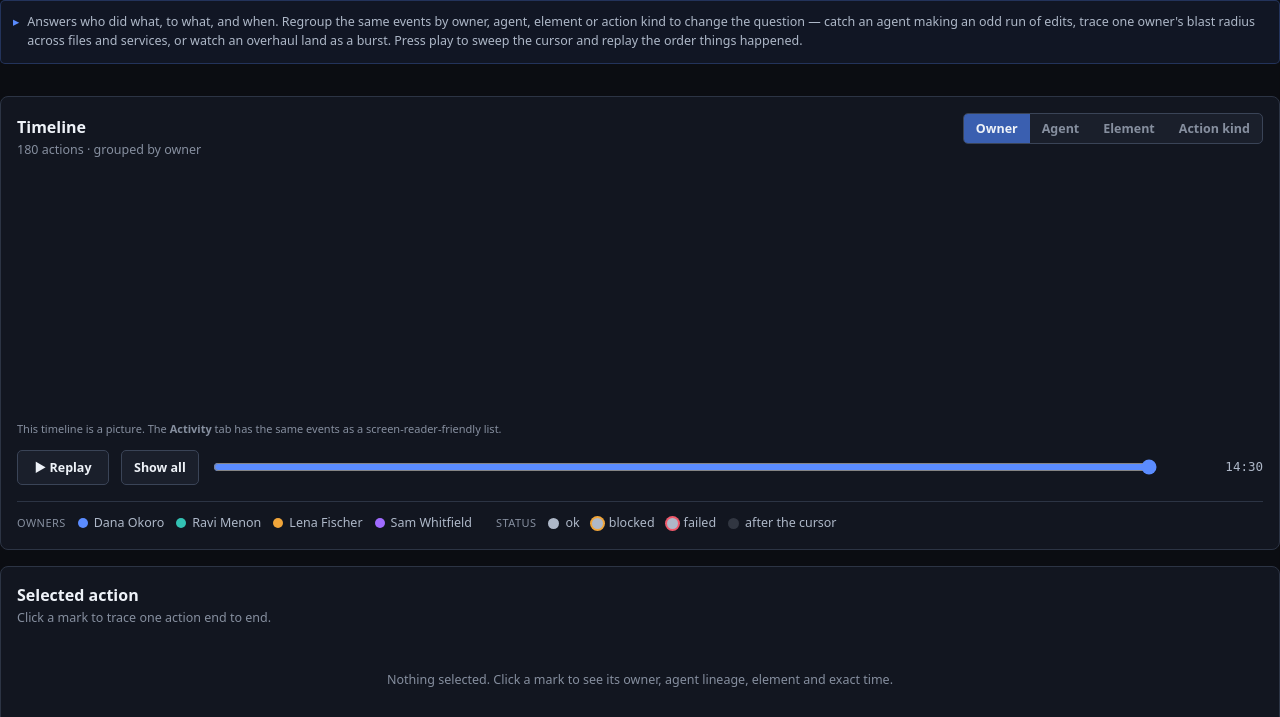
Test case: VisualiserTab — group-by control › re-labels the hint and swaps the legend for each grouping
What coordinates should you click on to do the following:
click the button "Agent"
I would click on:
 (1060, 128)
Its box is [1030,114,1091,142].
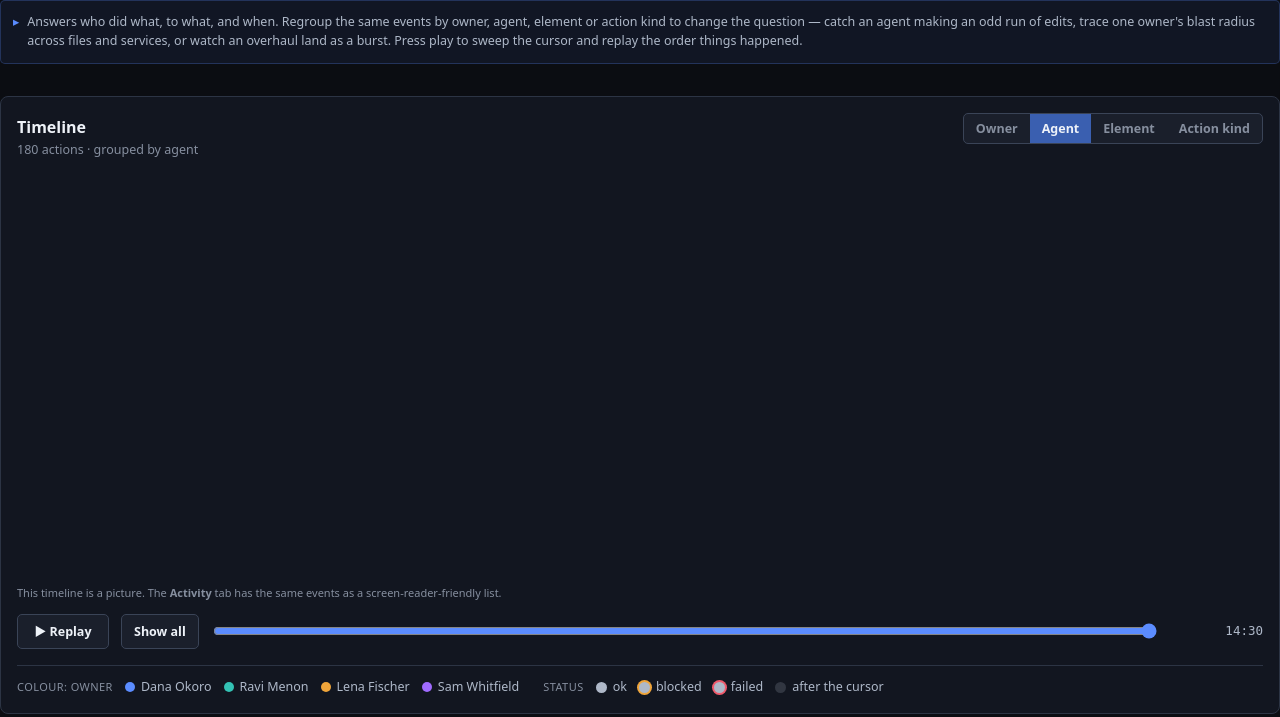
Now the text "Colour: owner" is shown, box [17,679,113,695]
What coordinates should you click on to do the following:
click the button "Element"
I would click on:
 (1129, 128)
Its box is [1091,114,1167,142].
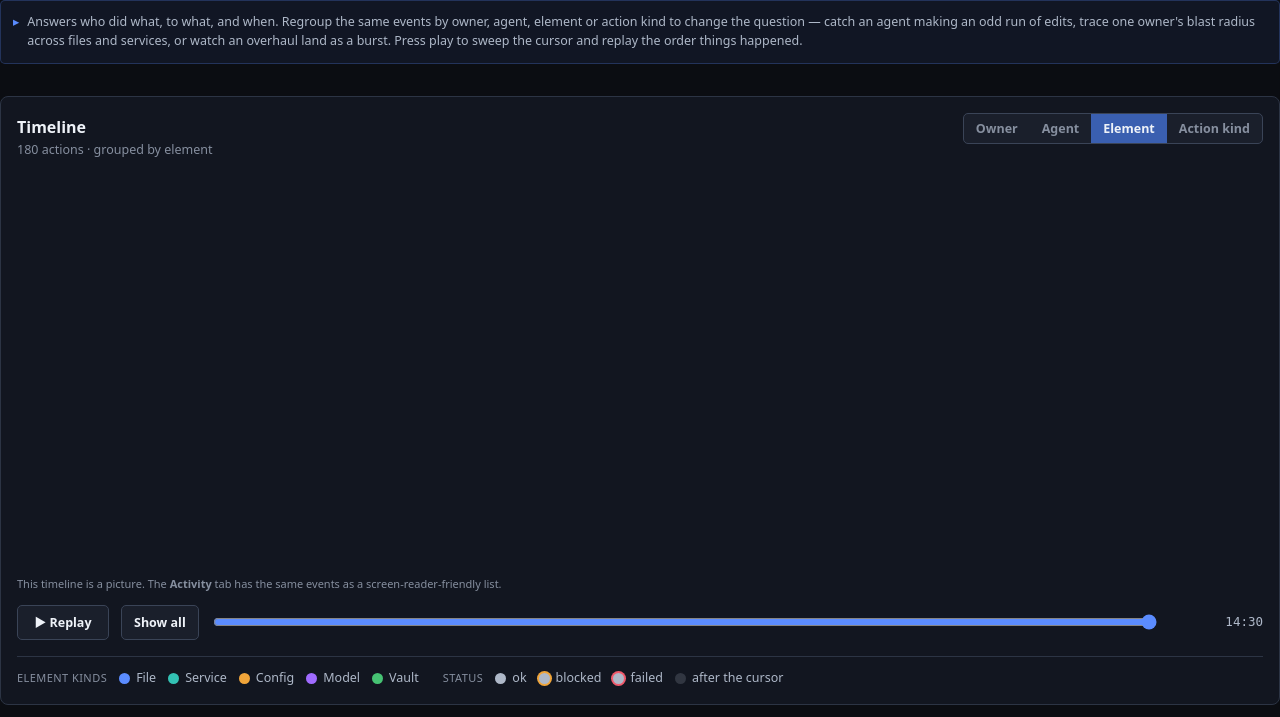
Now the text "Element kinds" is shown, box [17,670,107,686]
What coordinates should you click on to do the following:
click the button "Action kind"
I would click on:
 (1214, 128)
Its box is [1167,114,1262,142].
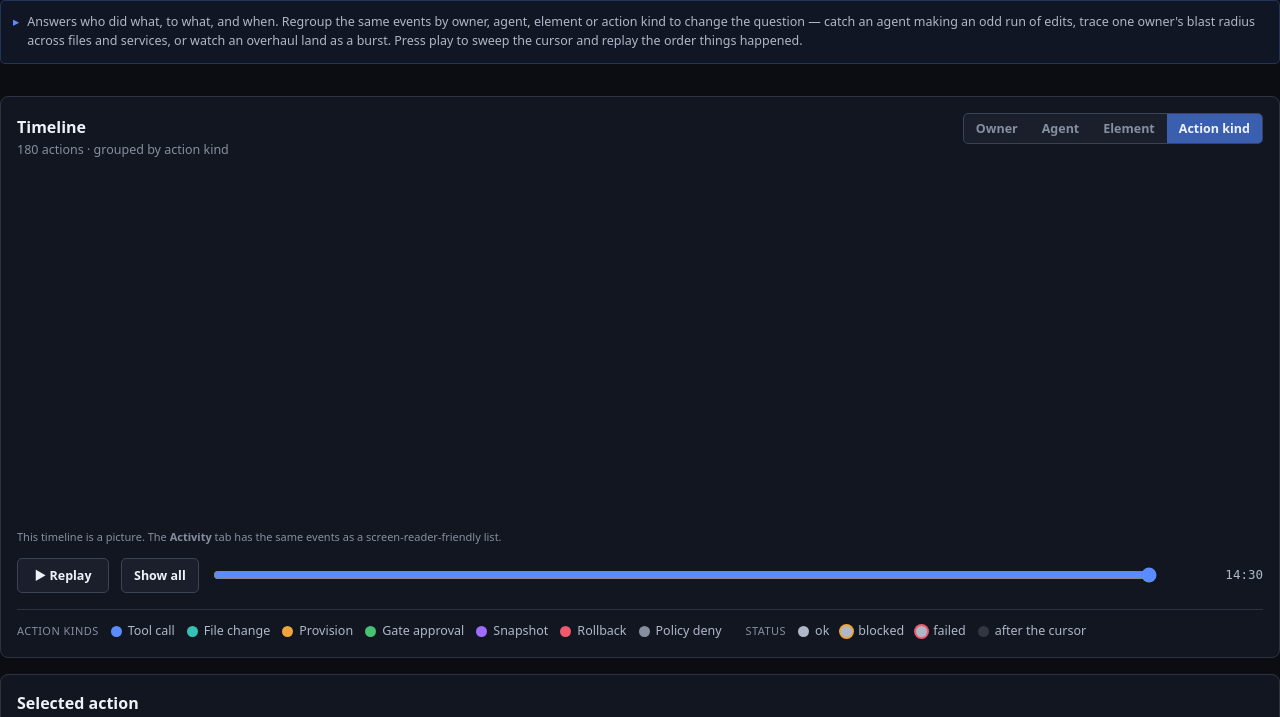
Now the text "Action kinds" is shown, box [17,623,99,639]
What coordinates should you click on to do the following:
click the button "Owner"
I would click on:
 (997, 128)
Its box is [964,114,1030,142].
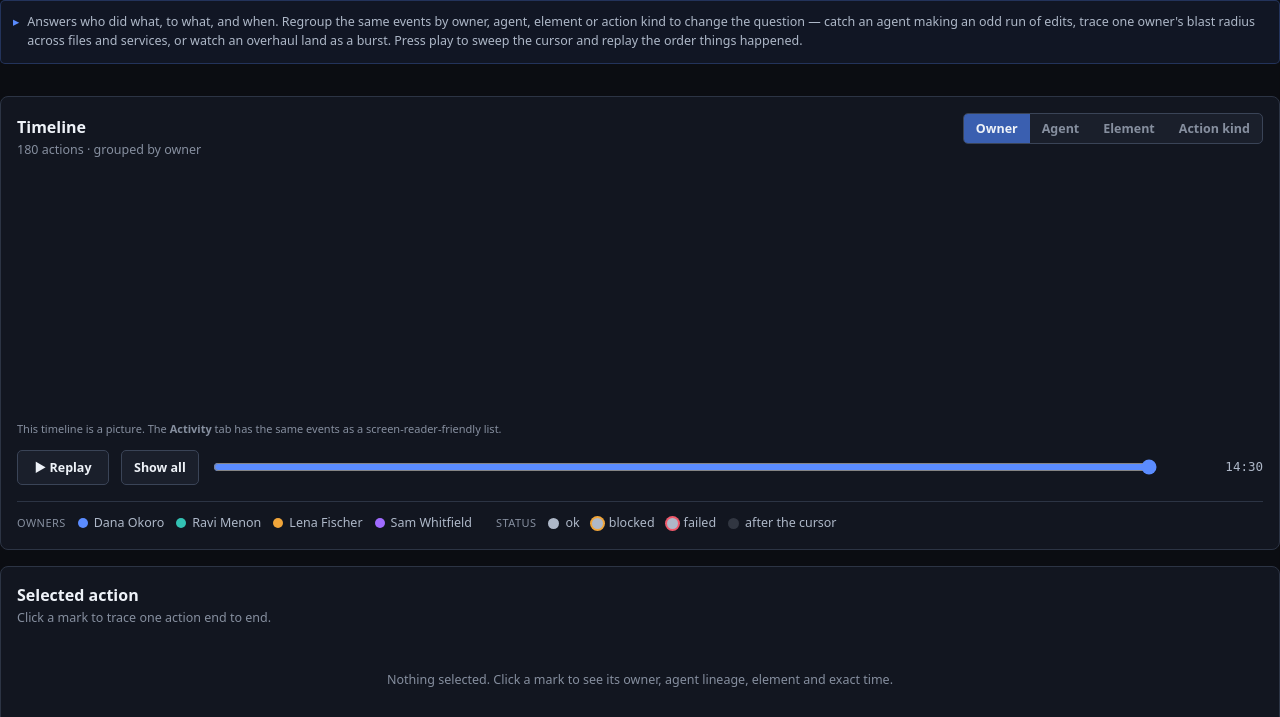
Now the text "Owners" is shown, box [17,515,66,531]
